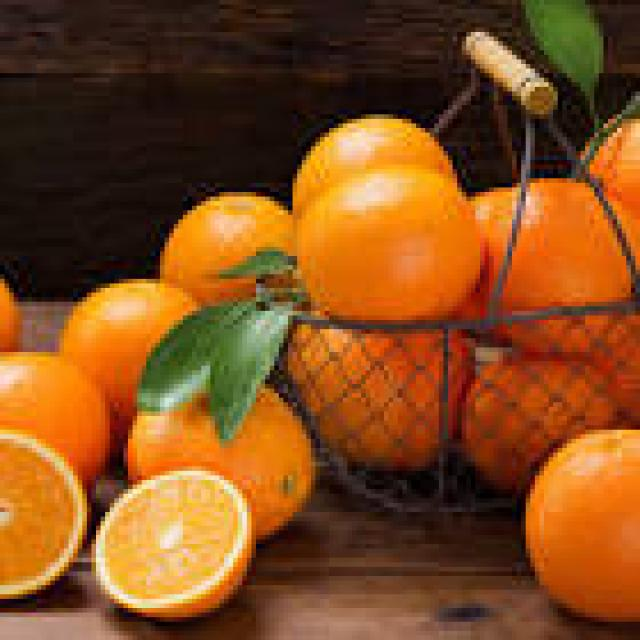orange: (126, 386, 315, 539), (296, 166, 482, 321), (94, 469, 254, 620), (60, 280, 199, 449), (526, 430, 640, 621), (501, 179, 632, 310), (292, 115, 455, 216), (160, 192, 294, 304), (0, 429, 88, 599), (0, 352, 110, 485), (476, 189, 506, 232)
